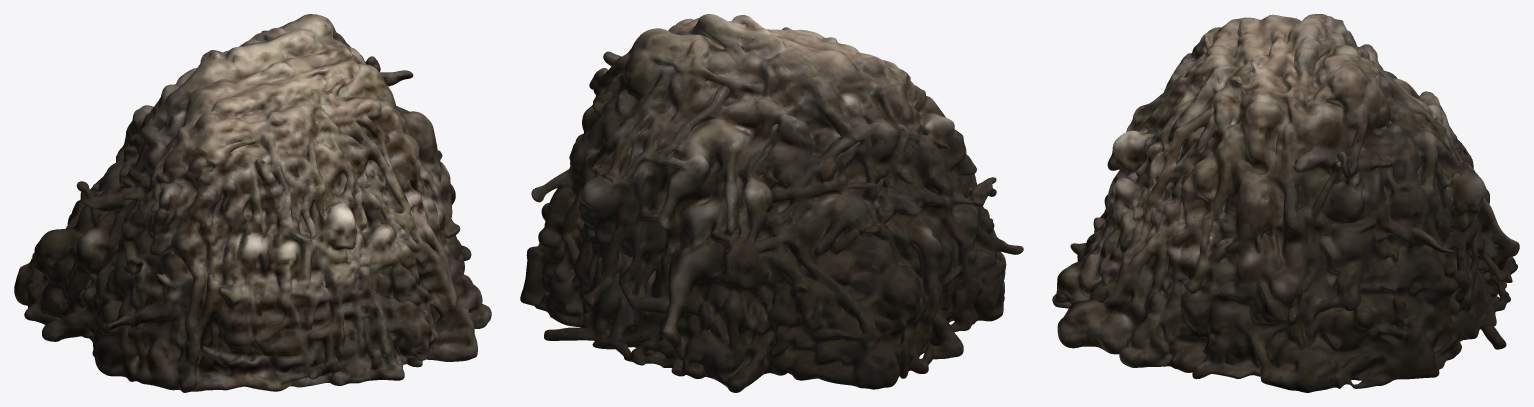
The model's file is pile of bones.glb.
3 views of the same model, side by side, from view 1: azimuth 30°, elevation 25°; view 2: azimuth 150°, elevation 25°; view 3: azimuth 270°, elevation 25° (orthographic). The views are drawn at different scales.
Bounding box in the file's own units: 2 × 1.24 × 1.92.
1 material, 1 textured.
